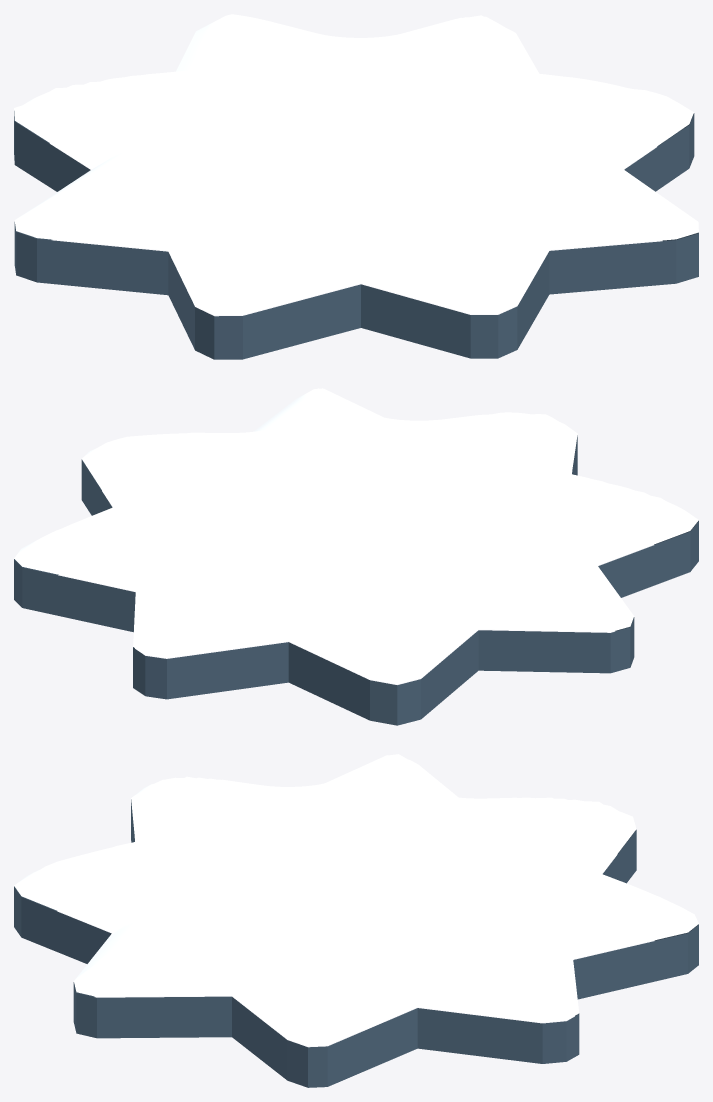
Rendered from landmark-deniz-mall.glb.
The picture shows the model from 3 angles, top to bottom: view 1: azimuth 30°, elevation 25°; view 2: azimuth 150°, elevation 25°; view 3: azimuth 270°, elevation 25°; orthographic projection. The views are drawn at different scales.
Parts seen in each view (by area): view 1: deniz-mall; view 2: deniz-mall; view 3: deniz-mall.
Part boxes in pixels (x1,y1,x2,y2): deniz-mall: (14,14,698,359); deniz-mall: (14,388,698,725); deniz-mall: (14,754,698,1087).
Size of the model in its own units: 173 by 33.62 by 175.
